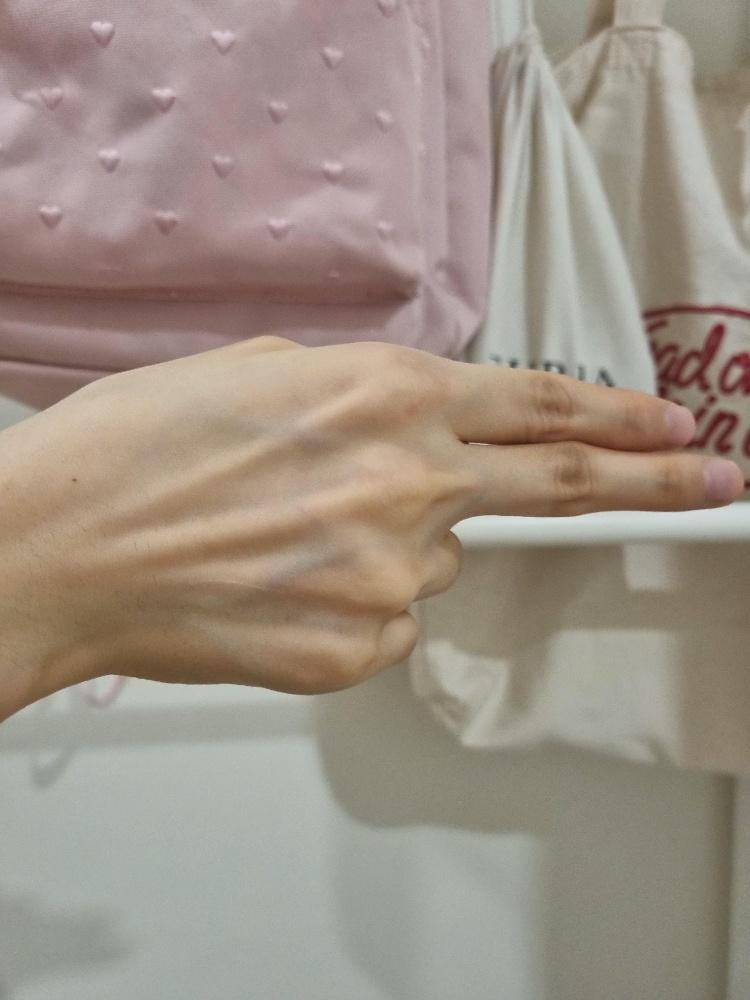h: (84, 332, 747, 696)
